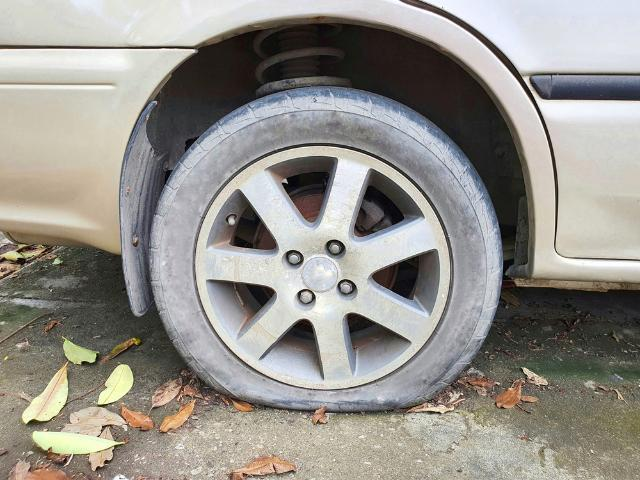tire flat: (148, 86, 504, 414)
